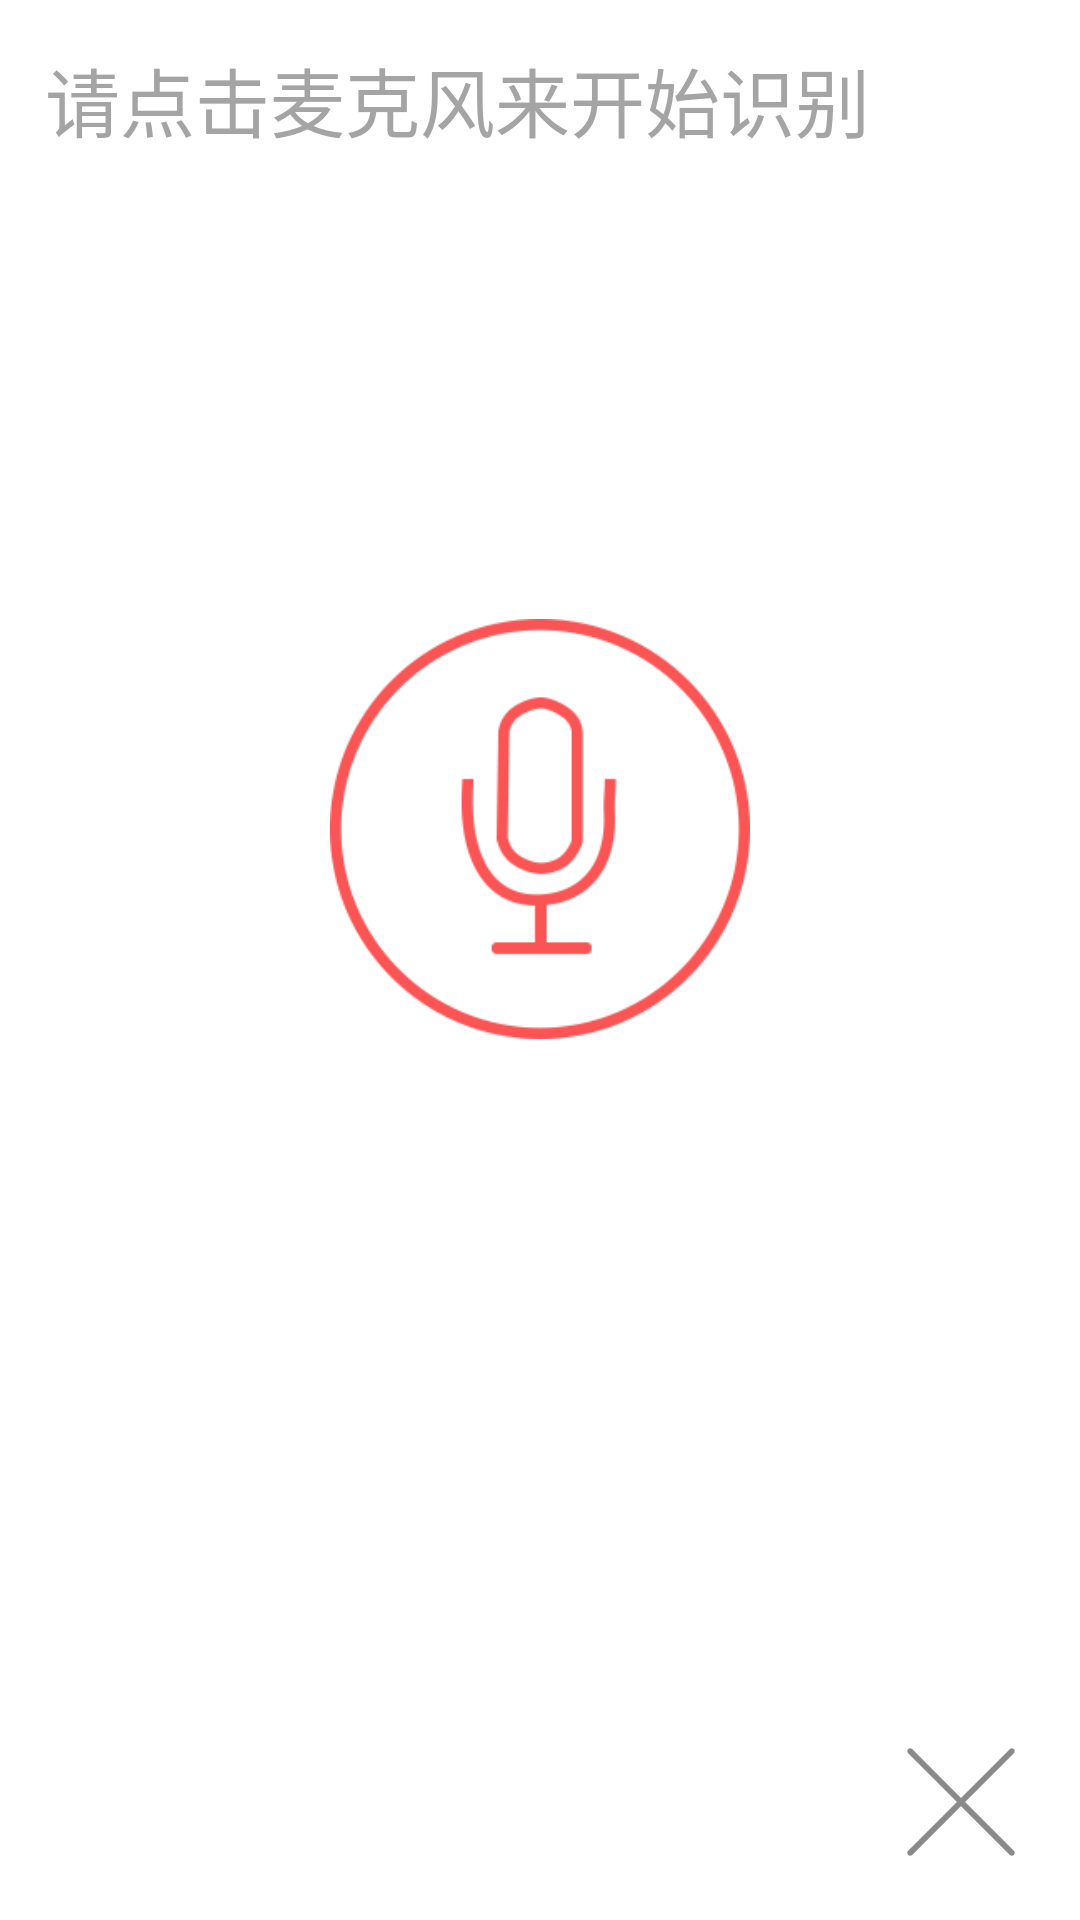

Icons on this 1080*1920 Android screen, each with the point to tap as (x=x, y=y):
cha: (x=961, y=1802)
